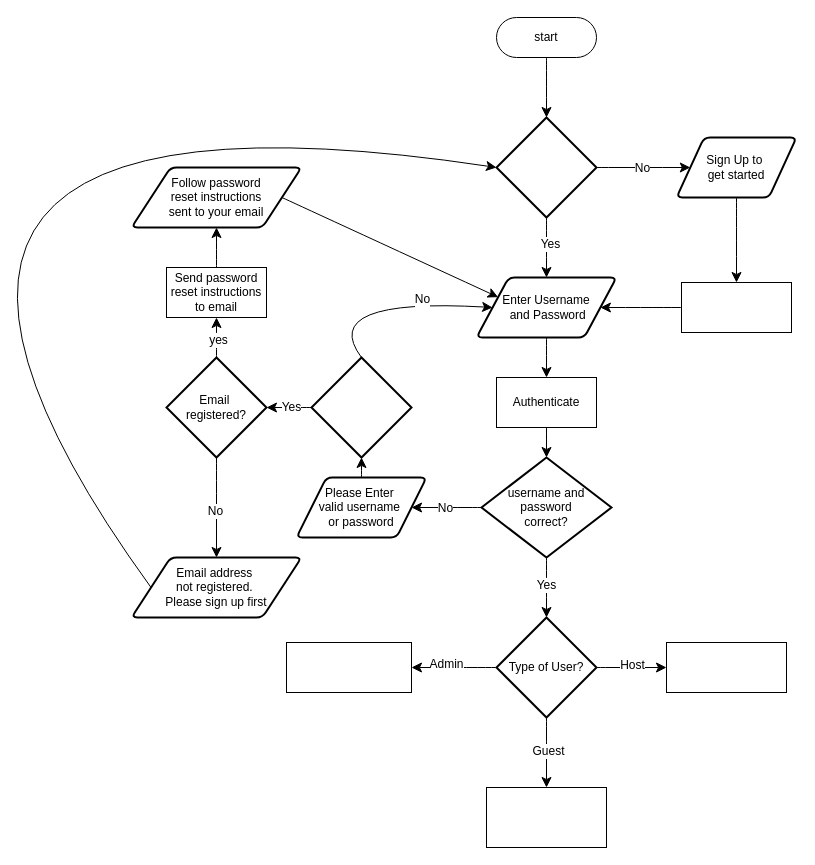
Some shapes in this 815 by 865 pixel diagram are drawn without their labels. Each missing label, with the centre of its shape:
"Check Admin ID and retrieve admin dadhboard and profile" belongs at point (349, 667).
"Check Guest ID and retrieve Gues landing page and profile" belongs at point (546, 817).
"Check Host Id and retreive Host landing page and profile" belongs at point (726, 667).
"Forgot Password" belongs at point (361, 407).
"Have an account?" belongs at point (546, 167).
"Update user table with signup details" belongs at point (736, 307).
